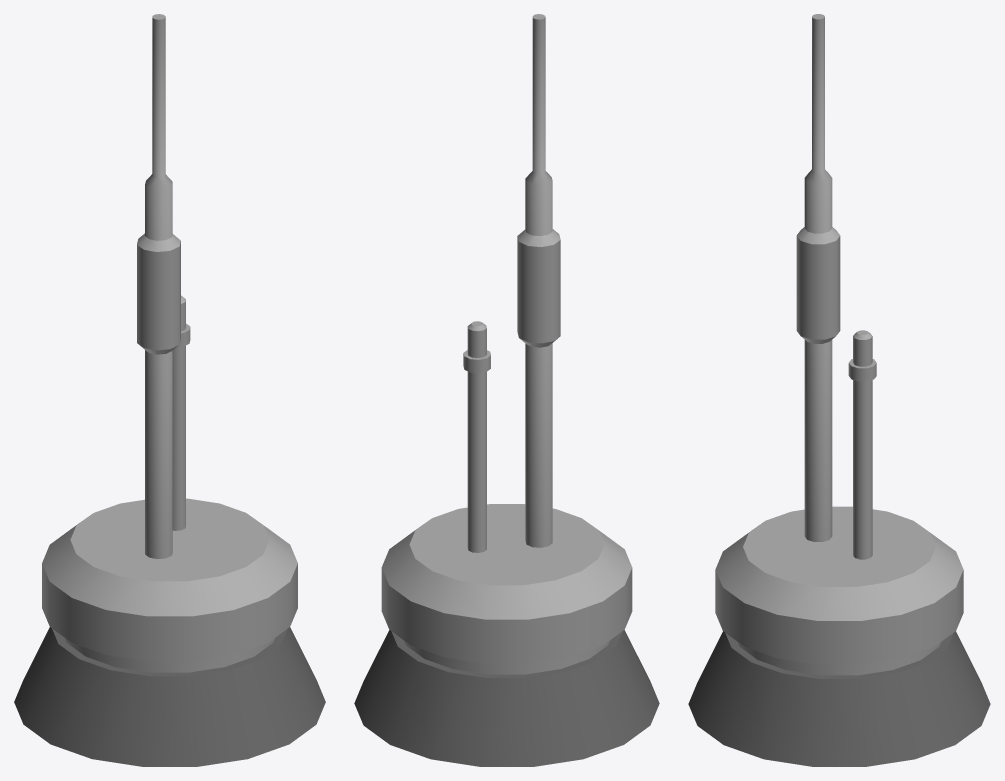
File: antenna.glb
3 renders of one model, left to right at view 1: azimuth 30°, elevation 25°; view 2: azimuth 150°, elevation 25°; view 3: azimuth 270°, elevation 25°, orthographic. The views are drawn at different scales.
Parts seen in each view (by area): view 1: Roof_Antenna; view 2: Roof_Antenna; view 3: Roof_Antenna.
Boxes of the visible parts, box(x1,y1,x2,y2) form: Roof_Antenna: box(14, 14, 325, 766); Roof_Antenna: box(354, 14, 659, 766); Roof_Antenna: box(688, 14, 990, 766).
Size of the model in its own units: 1.41 by 3.54 by 1.43.
Materials: 1 (1 with a texture image).
